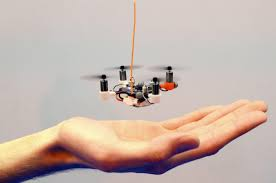drone: (76, 63, 193, 109)
